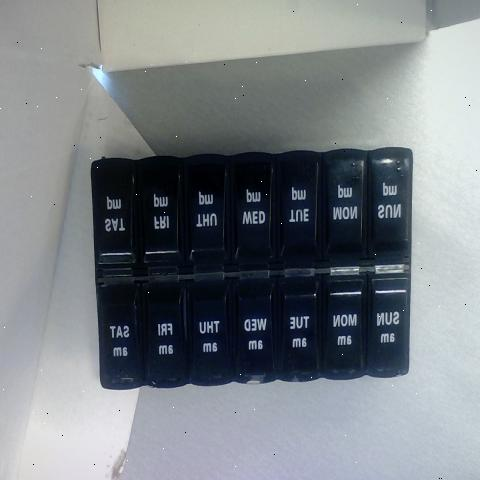FRI-am: (145, 284, 180, 378)
FRI-pm: (136, 155, 174, 263)
MON-am: (324, 275, 368, 378)
MON-pm: (324, 152, 362, 256)
SAT-am: (98, 286, 138, 382)
SAT-pm: (94, 157, 130, 261)
SUN-am: (370, 275, 405, 372)
SUN-pm: (368, 156, 406, 248)
THU-am: (188, 284, 229, 379)
THU-pm: (180, 158, 221, 266)
TUE-am: (277, 279, 317, 383)
TUE-pm: (274, 151, 318, 261)
WED-am: (232, 279, 273, 382)
WED-pm: (224, 154, 266, 259)
